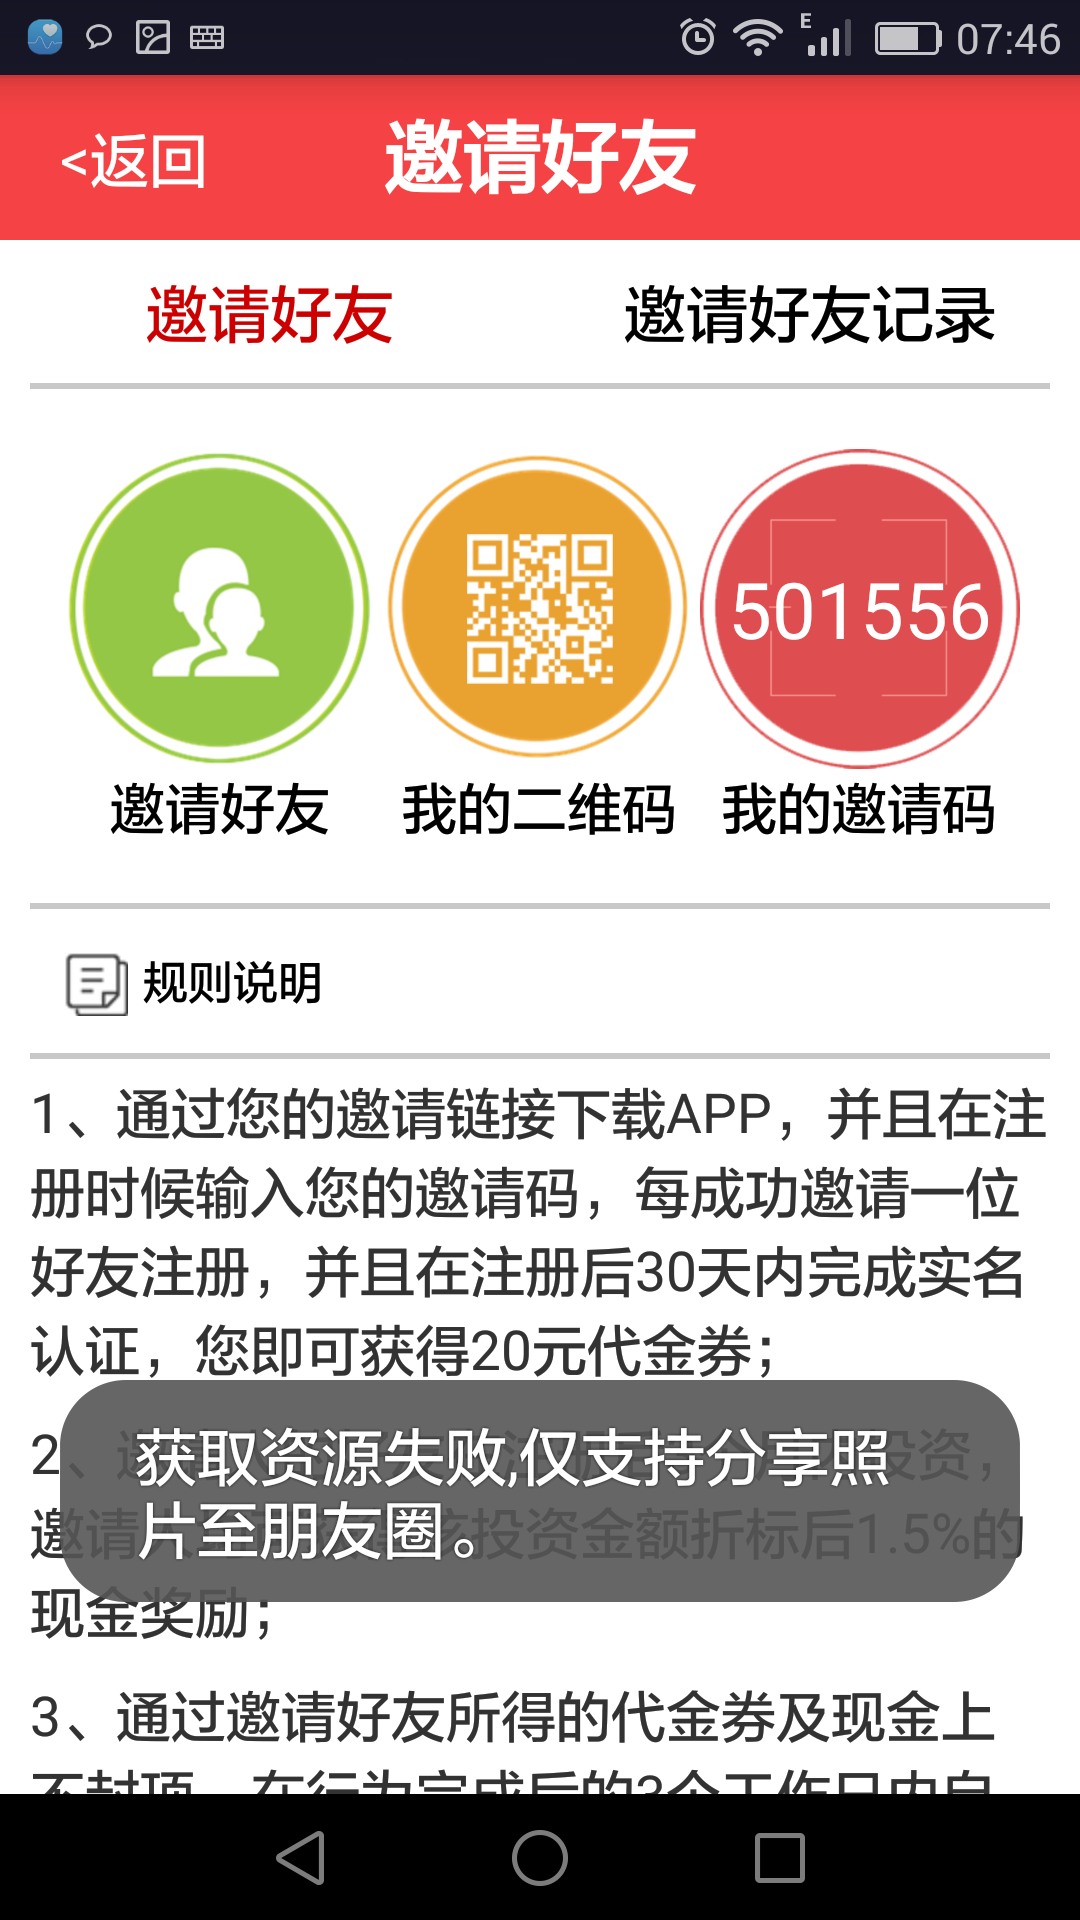alert: (55, 1364, 1040, 1615)
button: (28, 100, 224, 223)
